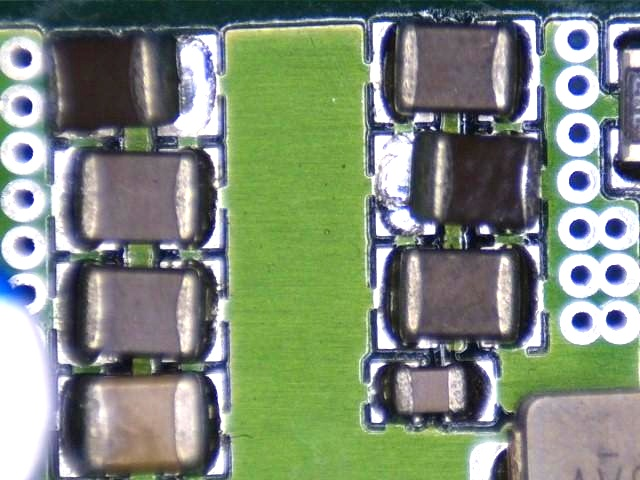pcb_defect: (44, 31, 222, 138), (373, 131, 541, 237)
